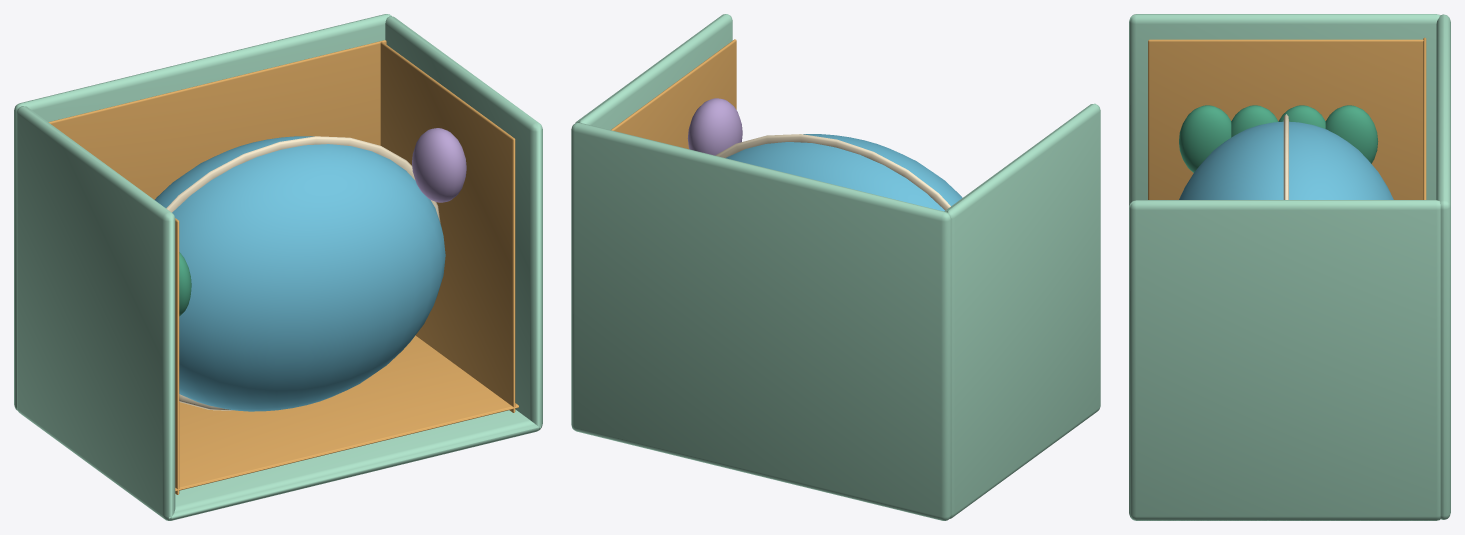
Rendered from vacuole.glb.
The picture shows the model from 3 angles, left to right: view 1: azimuth 30°, elevation 25°; view 2: azimuth 150°, elevation 25°; view 3: azimuth 270°, elevation 25°; orthographic projection. The views are drawn at different scales.
Parts seen in each view (by area): view 1: cell-wall, plasma-membrane, vacuole-lumen, peripheral-nucleus, tonoplast, peripheral-chloroplasts; view 2: cell-wall, vacuole-lumen, plasma-membrane, peripheral-nucleus, tonoplast; view 3: cell-wall, plasma-membrane, vacuole-lumen, peripheral-chloroplasts, tonoplast.
Part boxes in pixels (bbox=[...]): cell-wall: bbox=[14, 14, 542, 520]; plasma-membrane: bbox=[48, 40, 518, 494]; vacuole-lumen: bbox=[155, 136, 445, 411]; peripheral-nucleus: bbox=[412, 128, 466, 202]; tonoplast: bbox=[166, 136, 440, 410]; peripheral-chloroplasts: bbox=[179, 252, 191, 316]; cell-wall: bbox=[571, 14, 1100, 520]; vacuole-lumen: bbox=[726, 134, 962, 211]; plasma-membrane: bbox=[611, 39, 736, 149]; peripheral-nucleus: bbox=[687, 98, 742, 155]; tonoplast: bbox=[715, 134, 950, 210]; cell-wall: bbox=[1129, 14, 1450, 520]; plasma-membrane: bbox=[1148, 37, 1426, 199]; vacuole-lumen: bbox=[1179, 121, 1393, 199]; peripheral-chloroplasts: bbox=[1179, 105, 1378, 172]; tonoplast: bbox=[1283, 114, 1288, 199].
Bounding box in the file's own units: 7.23 × 5.62 × 5.12.
